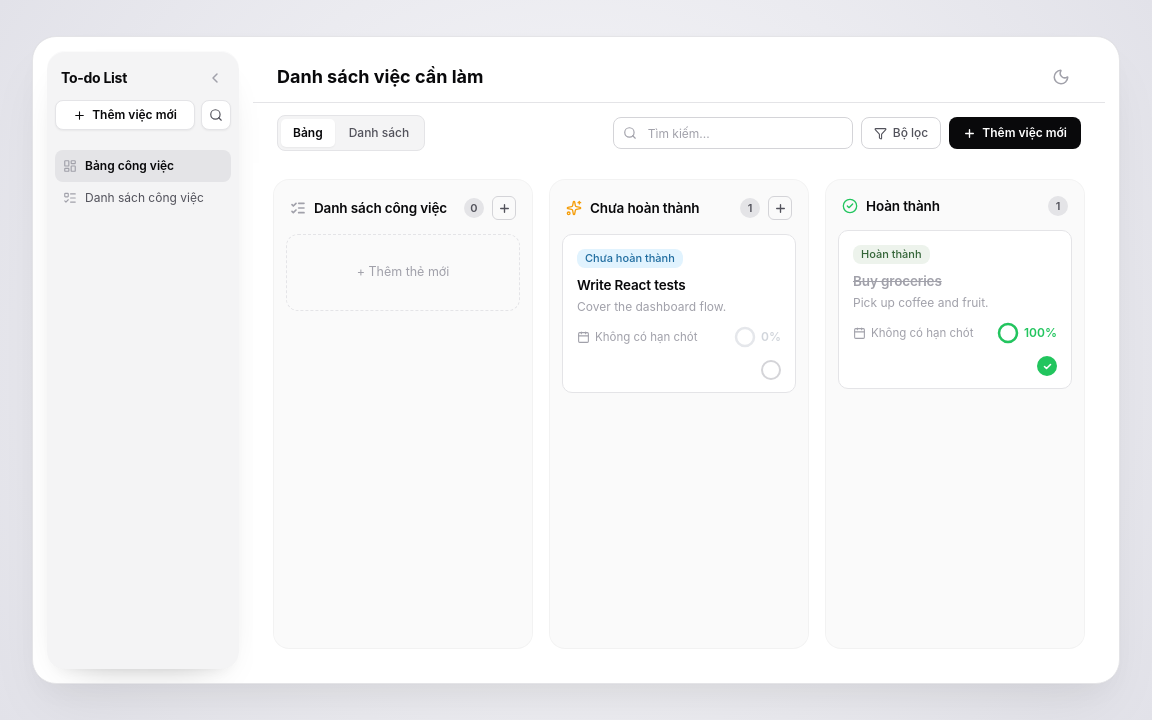
Test: Todo dashboard › opens the create form from the sidebar action
Click the button "Thêm việc mới" below "To-do List". click: (125, 115)
box: [55, 100, 195, 130]
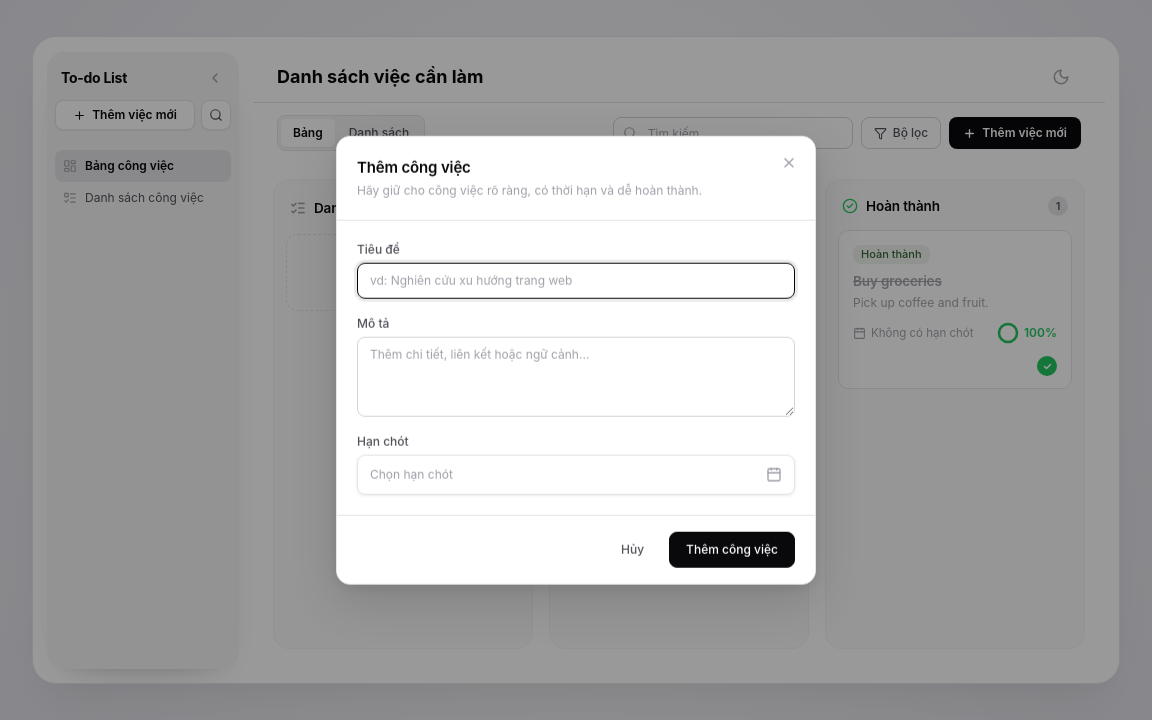
Check: the heading "Thêm công việc" is shown, box [357, 158, 471, 177]
